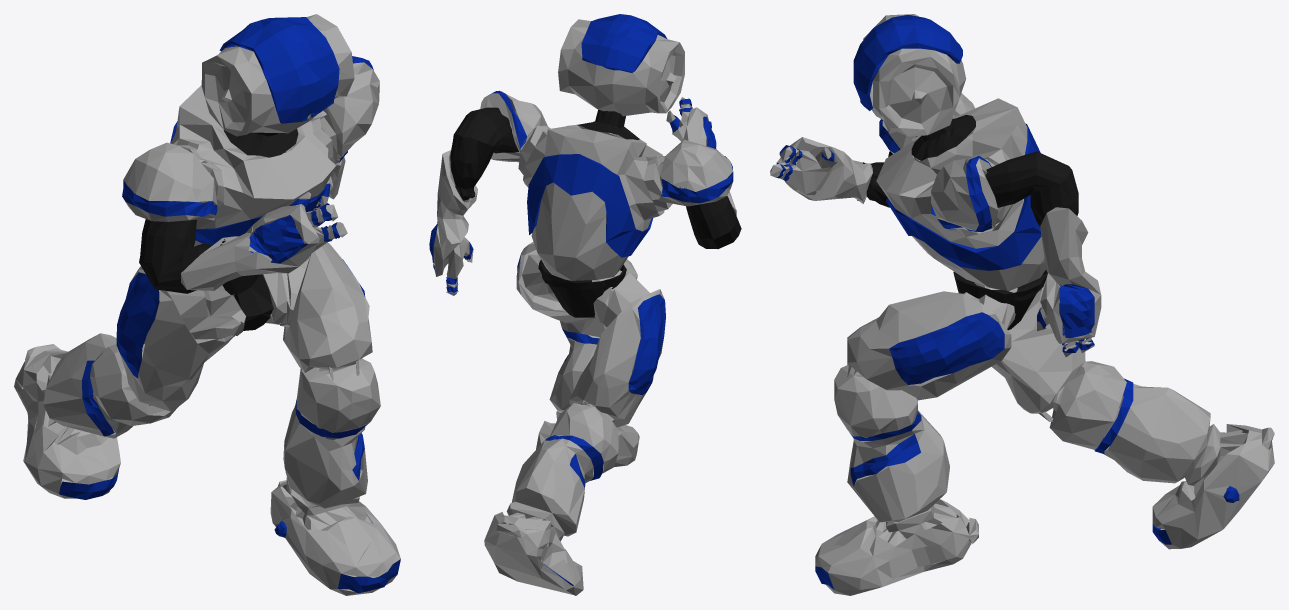
Rendered from run5.obj.
The picture shows the model from 3 angles, left to right: view 1: azimuth 30°, elevation 25°; view 2: azimuth 150°, elevation 25°; view 3: azimuth 270°, elevation 25°; orthographic projection. The views are drawn at different scales.
Parts seen in each view (by area): view 1: Robot2.001_Robot2Mesh.000, Robot2_Robot2Mesh.004, Robot2.002_Robot2Mesh.001; view 2: Robot2.001_Robot2Mesh.000, Robot2_Robot2Mesh.004, Robot2.002_Robot2Mesh.001; view 3: Robot2.001_Robot2Mesh.000, Robot2_Robot2Mesh.004, Robot2.002_Robot2Mesh.001.
Boxes of the visible parts, x1,y1,x2,y2 form: Robot2.001_Robot2Mesh.000: (14,14,400,595); Robot2_Robot2Mesh.004: (59,17,400,593); Robot2.002_Robot2Mesh.001: (139,128,298,330); Robot2.001_Robot2Mesh.000: (433,19,736,595); Robot2_Robot2Mesh.004: (429,14,733,586); Robot2.002_Robot2Mesh.001: (450,107,741,317); Robot2.001_Robot2Mesh.000: (770,14,1274,595); Robot2_Robot2Mesh.004: (776,14,1239,589); Robot2.002_Robot2Mesh.001: (862,114,1078,330).
Bounding box in the file's own units: 0.97 × 1.87 × 1.57.
